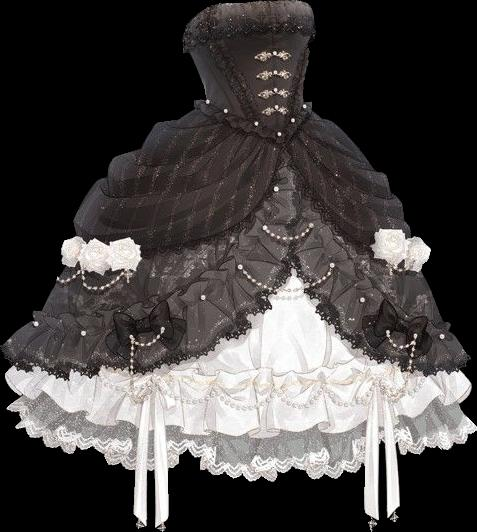Bodice: (183, 0, 315, 144)
Hemline: (2, 156, 469, 378), (63, 143, 429, 257), (5, 406, 476, 483), (3, 374, 472, 443)
Neckline: (178, 0, 315, 51)
Skirt: (1, 106, 476, 527)
Waistline: (195, 101, 312, 147)
